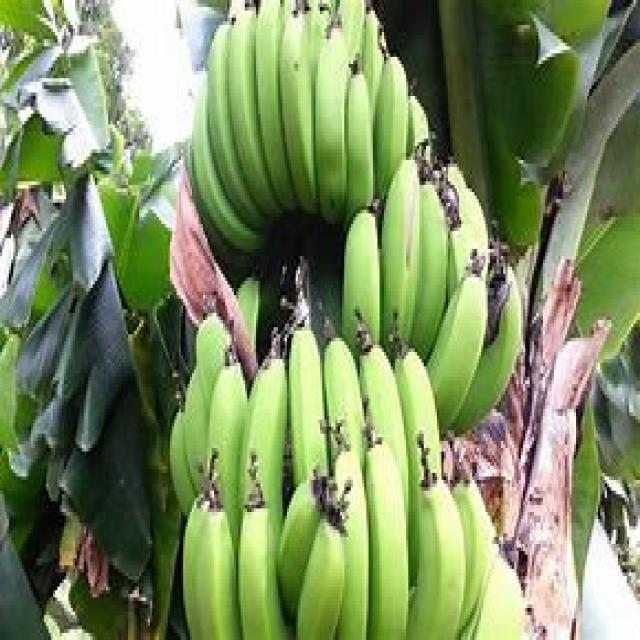Banana: (174, 0, 437, 210), (170, 485, 507, 640), (343, 157, 525, 398), (179, 322, 440, 463)
